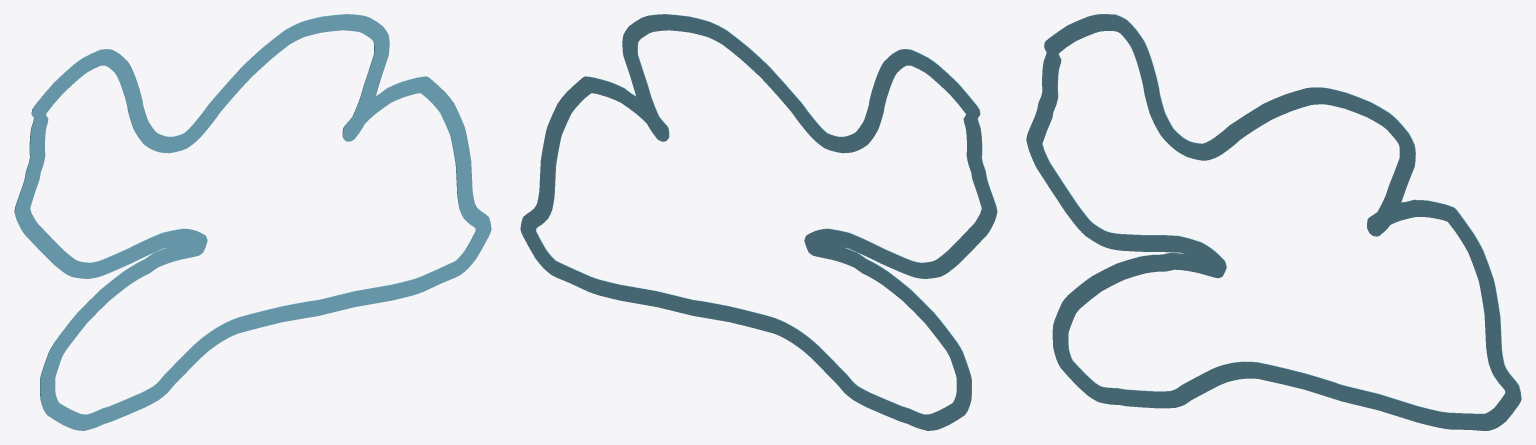
Rendered from tinker.obj.
The picture shows the model from 3 angles, left to right: view 1: azimuth 30°, elevation 25°; view 2: azimuth 150°, elevation 25°; view 3: azimuth 330°, elevation 25°; orthographic projection. The views are drawn at different scales.
Parts seen in each view (by area): view 1: obj_0; view 2: obj_0; view 3: obj_0.
Boxes of the visible parts, x1,y1,x2,y2 form: obj_0: [14, 14, 491, 430]; obj_0: [520, 14, 997, 430]; obj_0: [1026, 14, 1521, 430].
Size of the model in its own units: 63.55 by 48.03 by 0.1.
